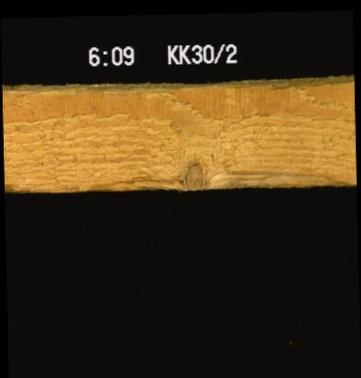sound_knot: (182, 159, 207, 189)
wave: (3, 180, 355, 190)
